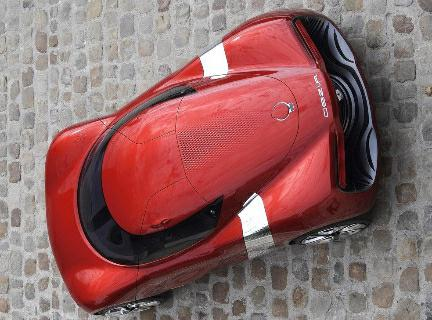雷诺-DeZir: (38, 6, 388, 308)
